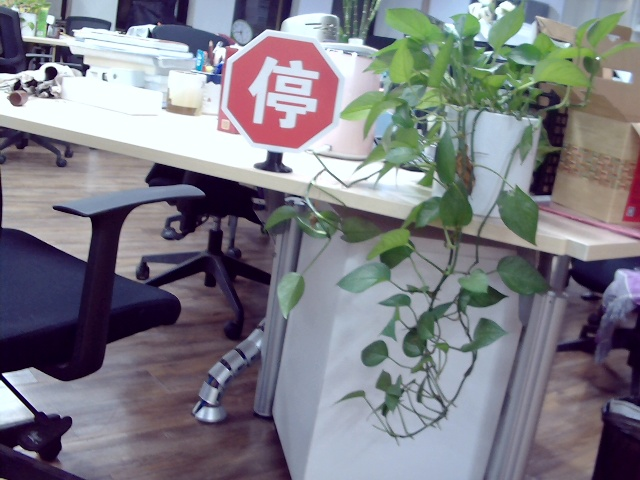stop: (247, 54, 317, 126)
